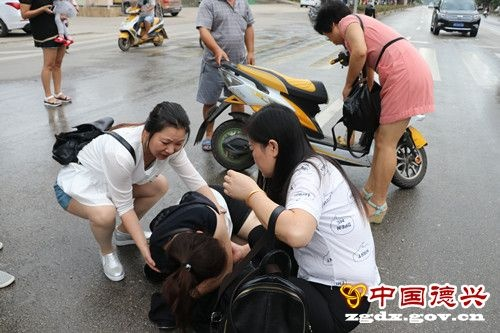falling: (137, 167, 260, 310)
